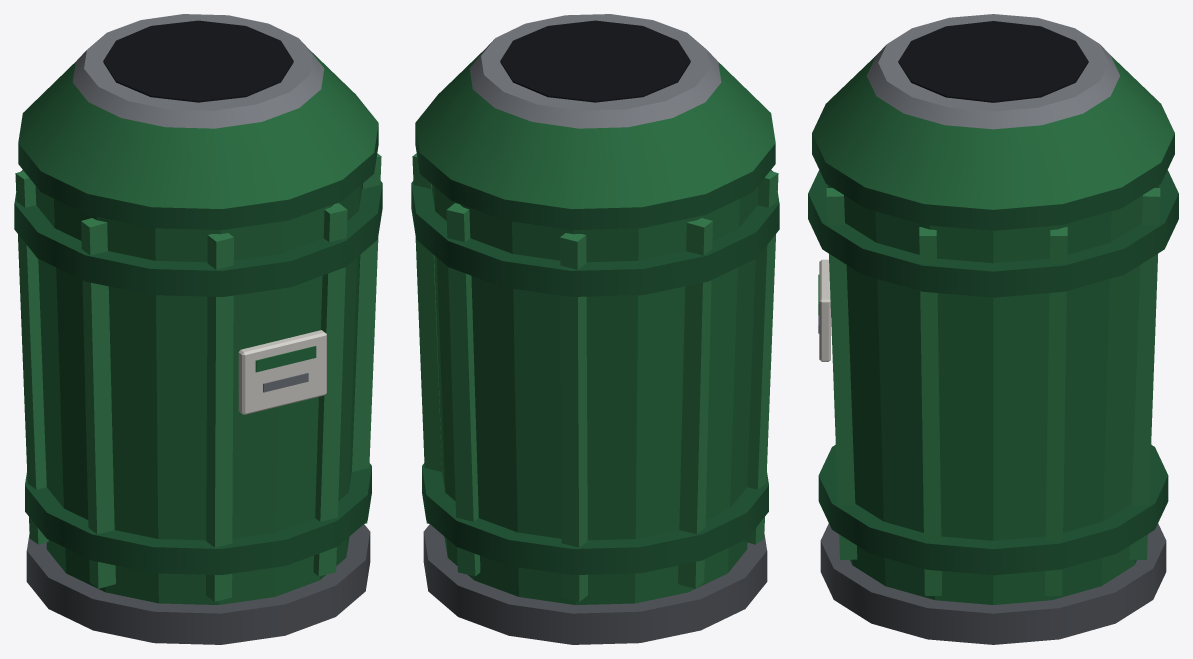
Rendered from rubbish_bin.glb.
3 renders of one model, left to right at view 1: azimuth 30°, elevation 25°; view 2: azimuth 150°, elevation 25°; view 3: azimuth 270°, elevation 25°, orthographic.
Parts seen in each view (by area): view 1: rubbish_bin; view 2: rubbish_bin; view 3: rubbish_bin.
Part boxes in pixels (<box>): rubbish_bin: <box>14,14,382,644</box>; rubbish_bin: <box>411,14,779,644</box>; rubbish_bin: <box>808,14,1178,644</box>.
Size of the model in its own units: 0.6432 by 0.978 by 0.6432.
